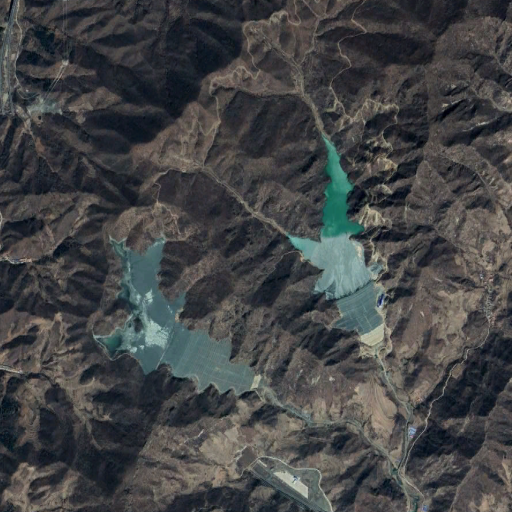tp: (93, 232, 264, 396), (285, 129, 387, 348)
